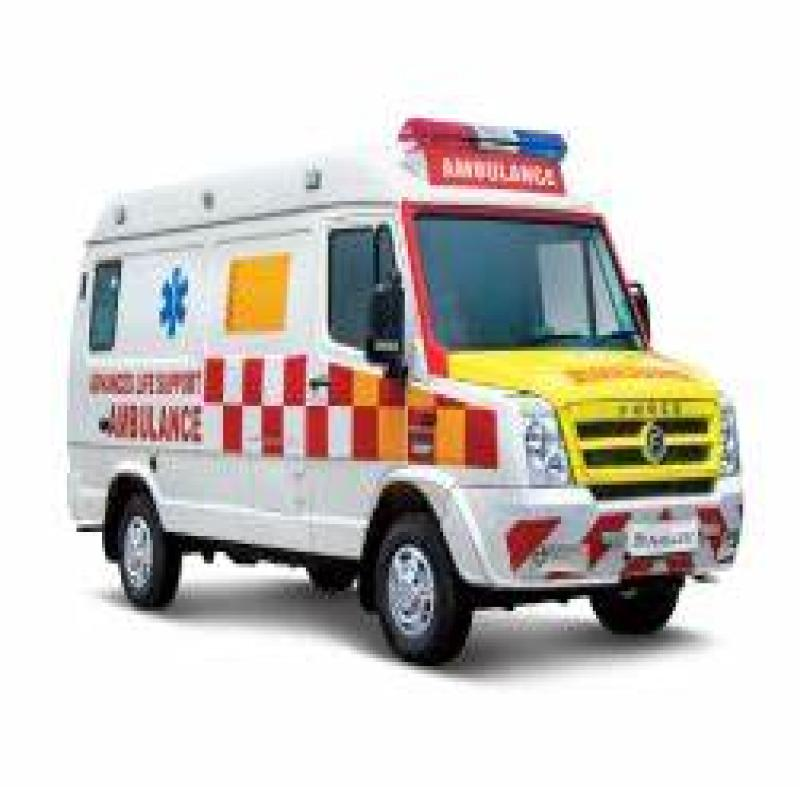AmbulanceSiren: (392, 91, 569, 178)
